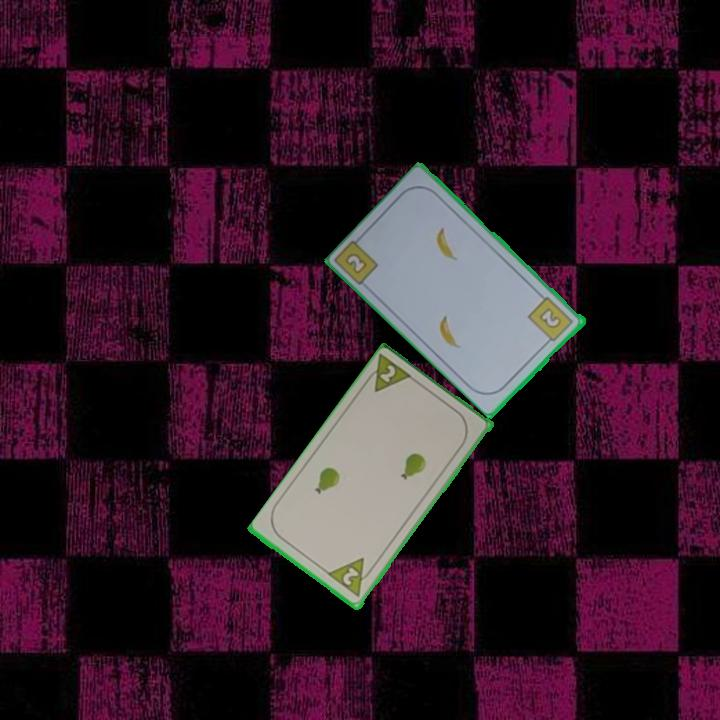2b: (525, 293, 576, 347), (342, 249, 370, 277)
2p: (359, 352, 417, 396), (325, 554, 378, 601)
